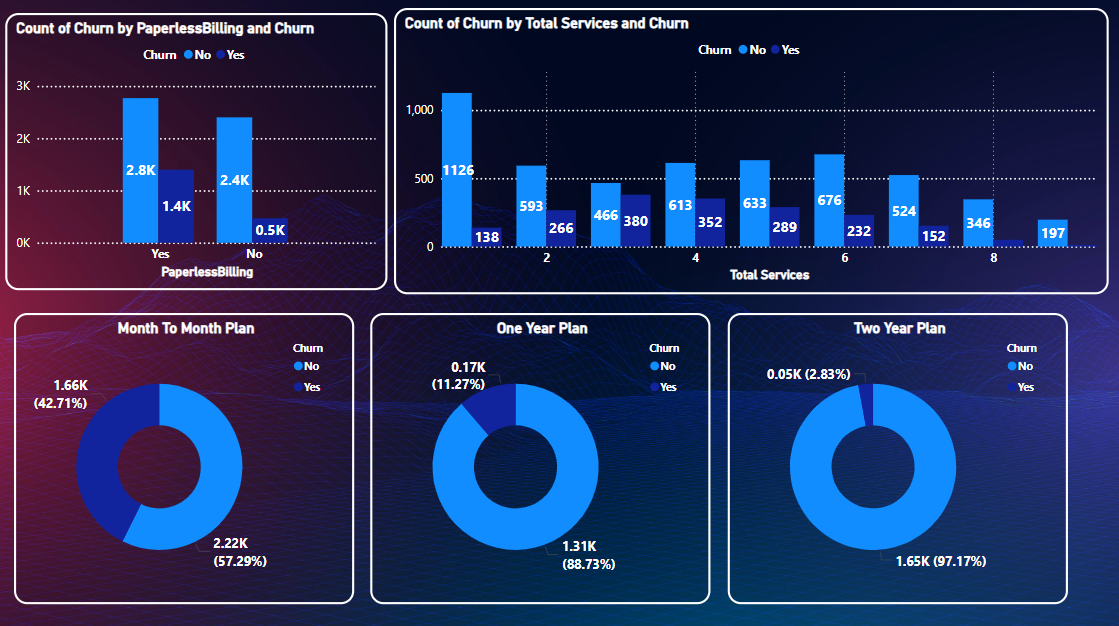

The page's visual inventory and layout, read from the dashboard file:
{"tool":"powerbi","page":{"name":"Page 2","canvas":[1280,720],"ordinal":1},"visuals":[{"type":"clusteredColumnChart","fields":{"Category":["Cutomer_churn_analysis.PaperlessBilling"],"Y":["CountNonNull(Cutomer_churn_analysis.Churn)"],"Series":["Cutomer_churn_analysis.Churn"]},"box":[7.1,17.1,437.1,317.1],"z":0},{"type":"clusteredColumnChart","fields":{"Category":["Cutomer_churn_analysis.Total Services"],"Y":["CountNonNull(Cutomer_churn_analysis.Churn)"],"Series":["Cutomer_churn_analysis.Churn"]},"box":[451.4,11.4,817.1,327.1],"z":1000},{"type":"pieChart","title":"Month To Month Plan","fields":{"Y":["CountNonNull(Cutomer_churn_analysis.Contract)"],"Category":["Cutomer_churn_analysis.Churn"]},"box":[17.1,360,388.6,332.9],"z":2000},{"type":"pieChart","title":"One Year Plan","fields":{"Y":["CountNonNull(Cutomer_churn_analysis.Contract)"],"Category":["Cutomer_churn_analysis.Churn"]},"box":[424.3,360,388.6,332.9],"z":3000},{"type":"pieChart","title":"Two Year Plan","fields":{"Y":["CountNonNull(Cutomer_churn_analysis.Contract)"],"Category":["Cutomer_churn_analysis.Churn"]},"box":[832.9,360,388.6,332.9],"z":4000}]}

Visuals, with their boxes in screenshot pixels (x1, y1, x2, y2), scaled from the page's 1280x720 canvas onto the 1119x626 screenshot:
clusteredColumnChart - Cutomer_churn_analysis.PaperlessBilling x CountNonNull(Cutomer_churn_analysis.Churn): 6, 15, 388, 291
clusteredColumnChart - Cutomer_churn_analysis.Total Services x CountNonNull(Cutomer_churn_analysis.Churn): 395, 10, 1109, 294
"Month To Month Plan" pieChart: 15, 313, 355, 602
"One Year Plan" pieChart: 371, 313, 711, 602
"Two Year Plan" pieChart: 728, 313, 1068, 602
